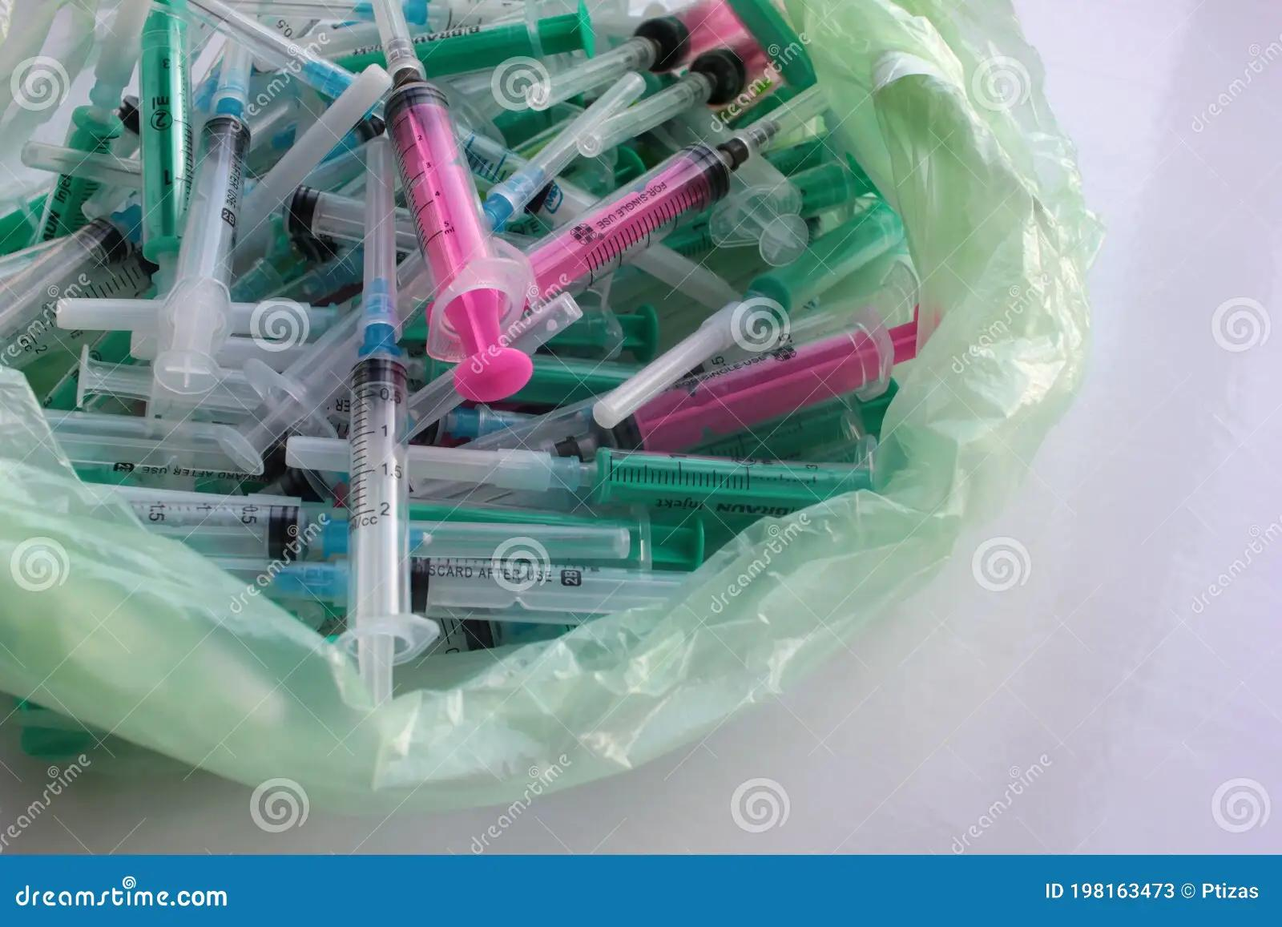Syringe: (594, 198, 903, 427), (373, 0, 531, 401), (345, 140, 439, 703), (556, 310, 915, 457), (386, 81, 531, 401), (150, 43, 251, 414), (405, 437, 875, 515), (527, 143, 750, 300), (482, 73, 644, 231), (242, 65, 391, 229), (526, 0, 747, 109), (579, 39, 768, 156), (227, 312, 361, 466), (411, 500, 704, 570), (0, 220, 131, 367), (412, 558, 687, 623), (183, 0, 354, 99), (112, 486, 330, 559), (139, 0, 194, 269), (46, 410, 261, 477), (410, 0, 592, 79), (67, 0, 149, 151), (709, 159, 808, 265), (409, 521, 631, 562), (409, 521, 631, 560), (626, 237, 736, 307), (20, 142, 143, 189), (501, 294, 580, 359), (77, 344, 151, 407), (229, 299, 339, 340), (286, 186, 364, 241), (215, 336, 308, 371)
